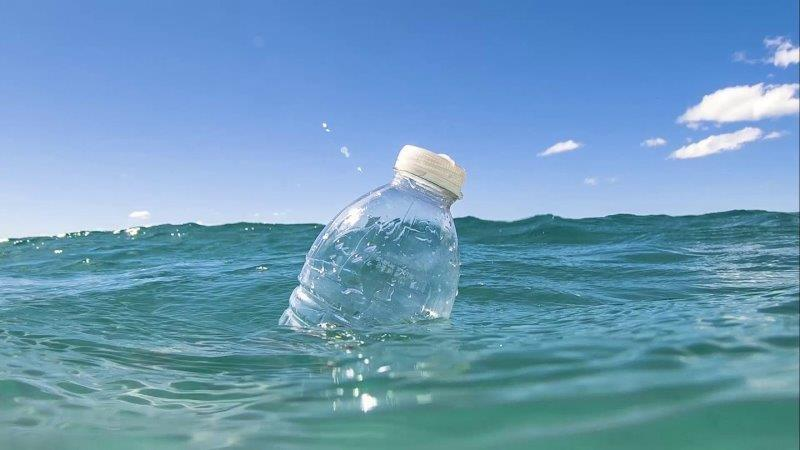plastic: (283, 145, 467, 327)
